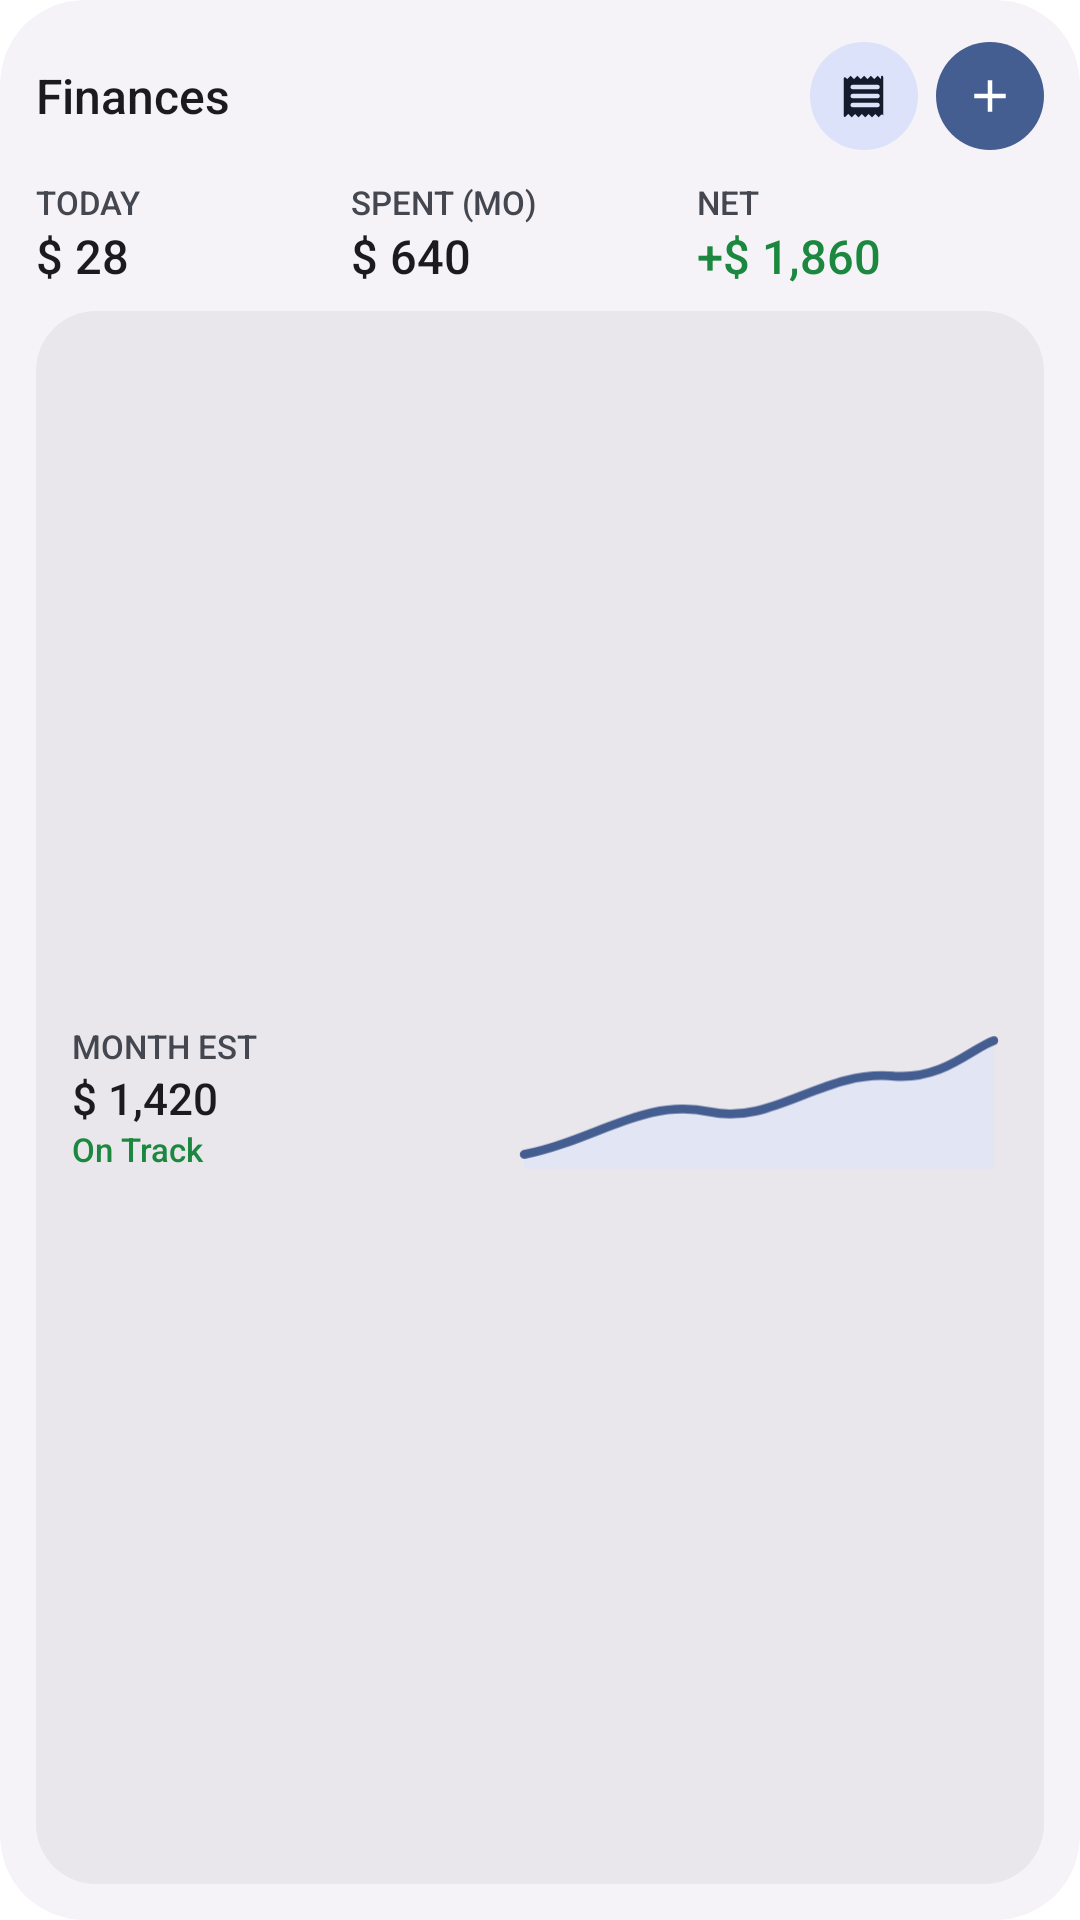

Where to tap for icons on this 1080*1920 app screen, as (x=x, y=y):
Add Transaction: (x=990, y=96)
Scan Receipt: (x=863, y=96)
